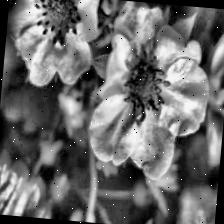Blossom Blight: (26, 0, 88, 49)
